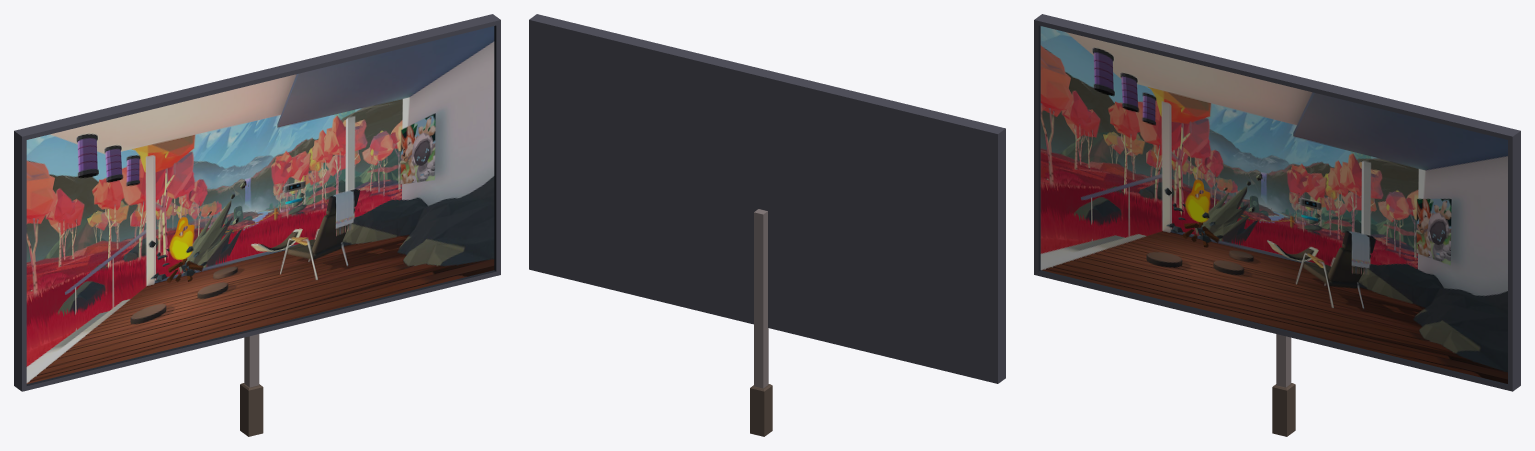
File: landing.glb
The picture shows the model from 3 angles, left to right: view 1: azimuth 30°, elevation 25°; view 2: azimuth 150°, elevation 25°; view 3: azimuth 330°, elevation 25°; orthographic projection. The views are drawn at different scales.
Parts seen in each view (by area): view 1: landing; view 2: landing; view 3: landing.
Part boxes in pixels (x1,y1,x2,y2): landing: [14, 14, 500, 436]; landing: [529, 14, 1005, 436]; landing: [1034, 14, 1520, 436].
Size of what is drawn, in the model's own units: 7.15 by 5.15 by 0.3715.
Materials: 2 (2 with a texture image).
